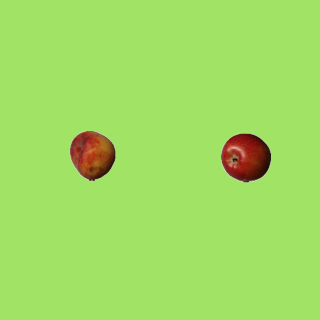Apple Braeburn: (220, 132, 270, 182)
Peach: (67, 130, 117, 180)
